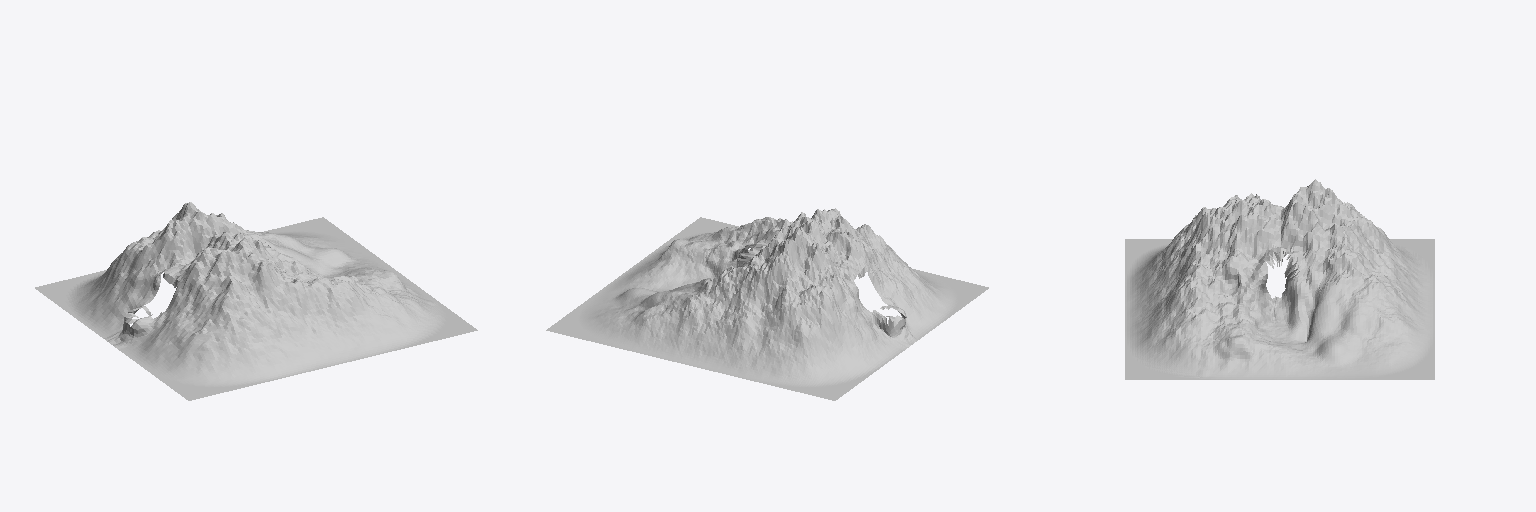
The model's file is mountain.obj.
The picture shows the model from 3 angles: view 1: azimuth 30°, elevation 25°; view 2: azimuth 150°, elevation 25°; view 3: azimuth 270°, elevation 25°; orthographic projection.
Parts seen in each view (by area): view 1: Landscape; view 2: Landscape; view 3: Landscape.
Boxes of the visible parts, x1=… form: Landscape: x1=35, y1=202, x2=477, y2=400; Landscape: x1=546, y1=208, x2=988, y2=400; Landscape: x1=1125, y1=179, x2=1434, y2=379.
Size of the model in its own units: 26.07 by 9.14 by 24.15.